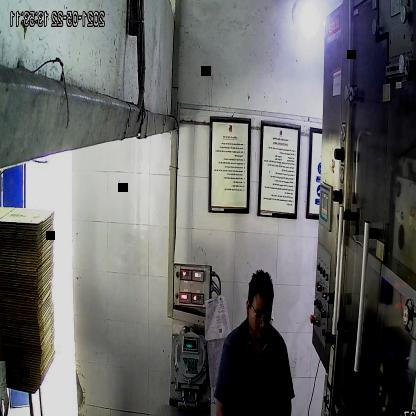goggles: (247, 305, 275, 332)
